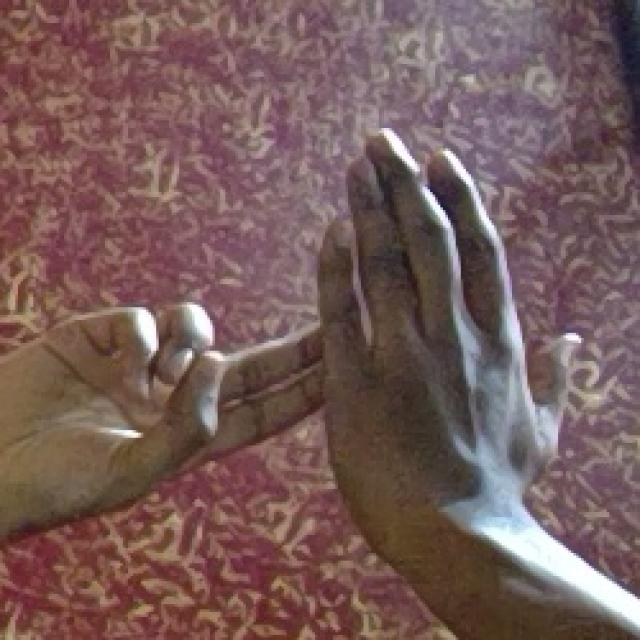Alphabet-N: (25, 123, 583, 562)
